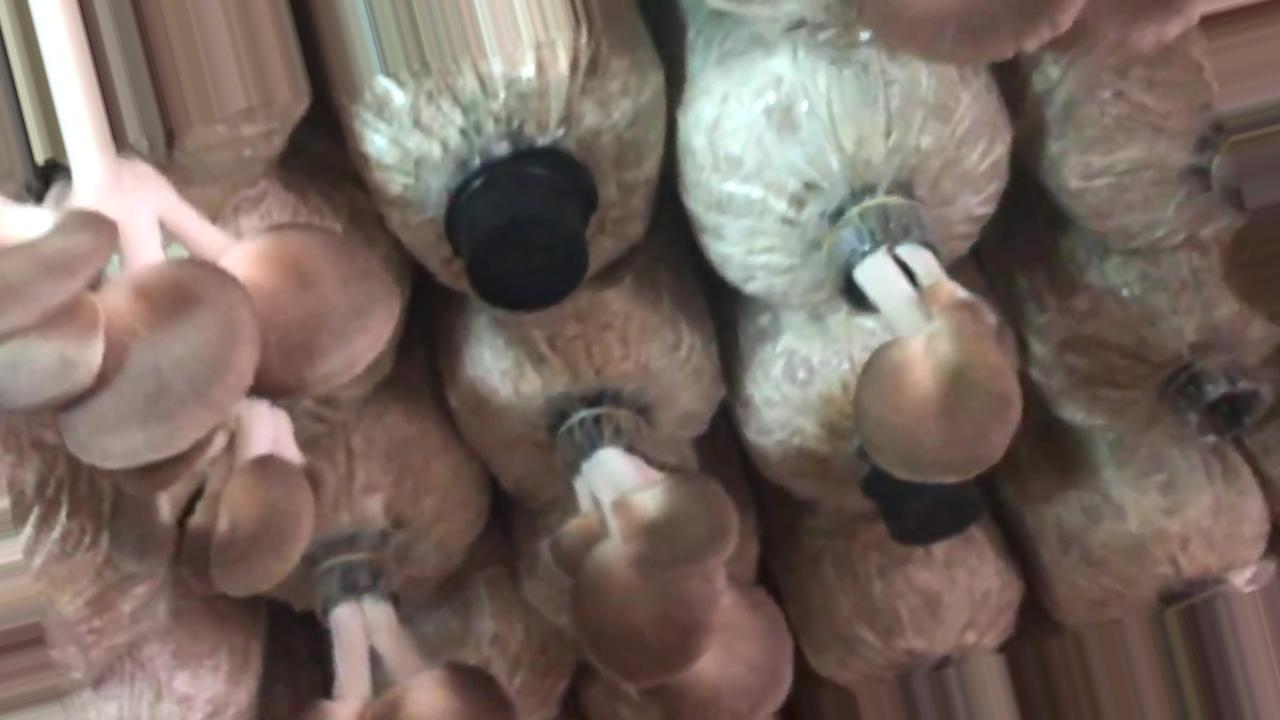nam: (1, 1, 401, 469), (546, 409, 791, 720), (830, 198, 1017, 483), (111, 395, 316, 598), (303, 544, 512, 720), (859, 1, 1200, 62)
